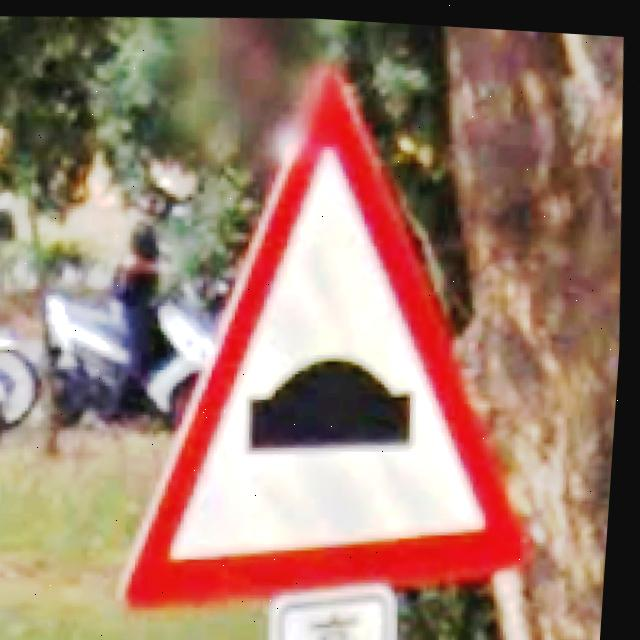hump: (130, 74, 531, 611)
